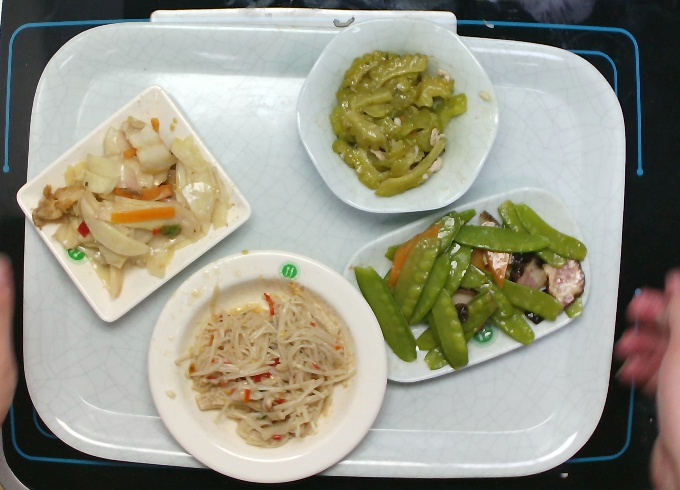WCQzf-Bai_Se_Si_Fang_Die: (15, 77, 254, 325)
WCQzf-Hua_Duo_Wan: (289, 15, 506, 217)
WCQzf-Kuan_Bian_Yuan_Die: (147, 244, 390, 486)
WCQzf-Tuo_Yuan_Pan: (344, 182, 597, 396)
